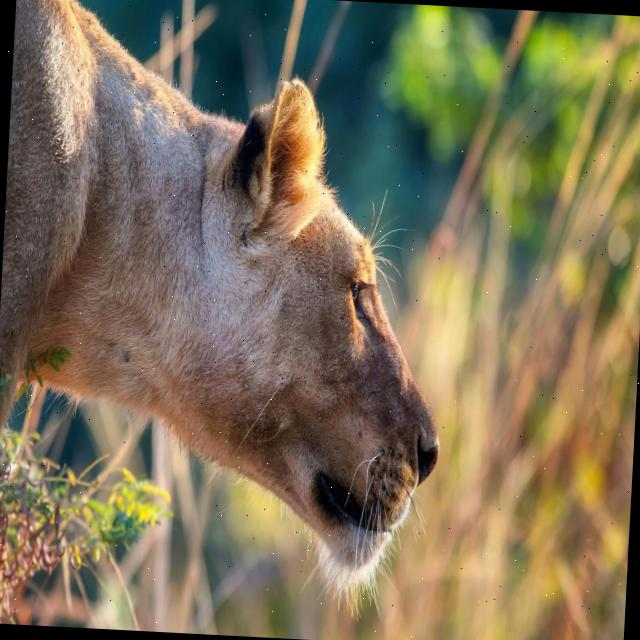Lion: (0, 0, 467, 605)
